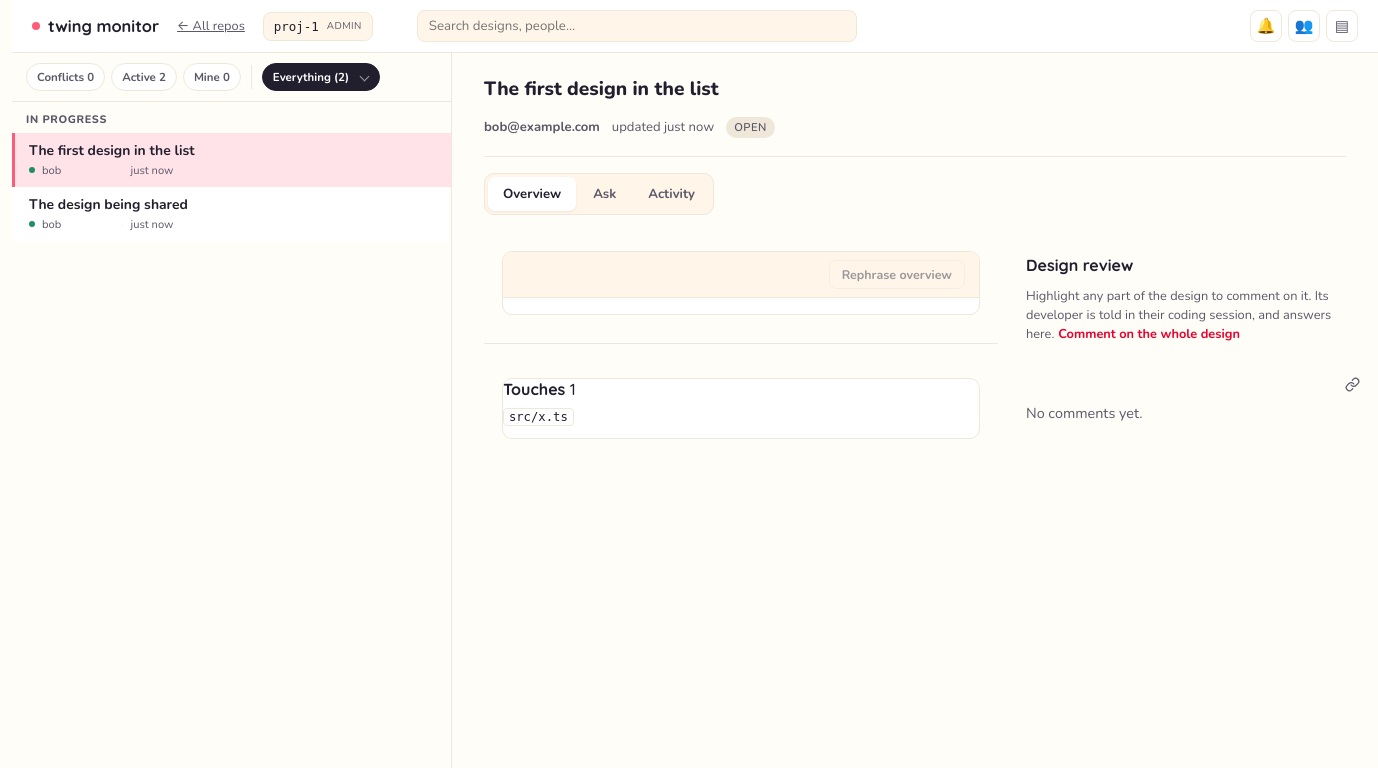
Test: RepoDetailLayout › the URL names the open design, so a copied link opens it › keeps the open design in the URL through the header link and a trip to another tab
Click the button with class "work-row" that starts with "The design being shared": {"x": 108, "y": 204} 12,187 -> 451,241
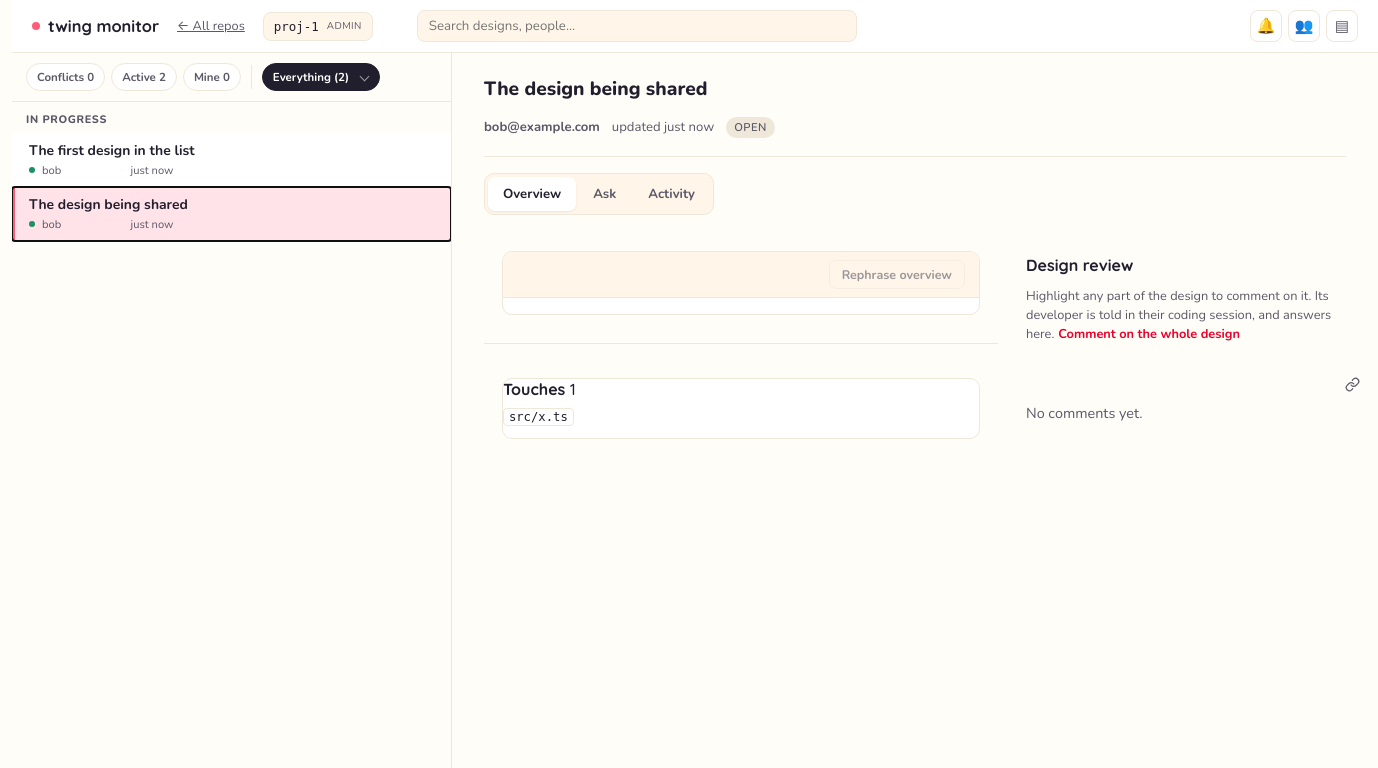
Click the button with aria-label "twing monitor, go to designs": {"x": 96, "y": 26} 32,16 -> 159,36
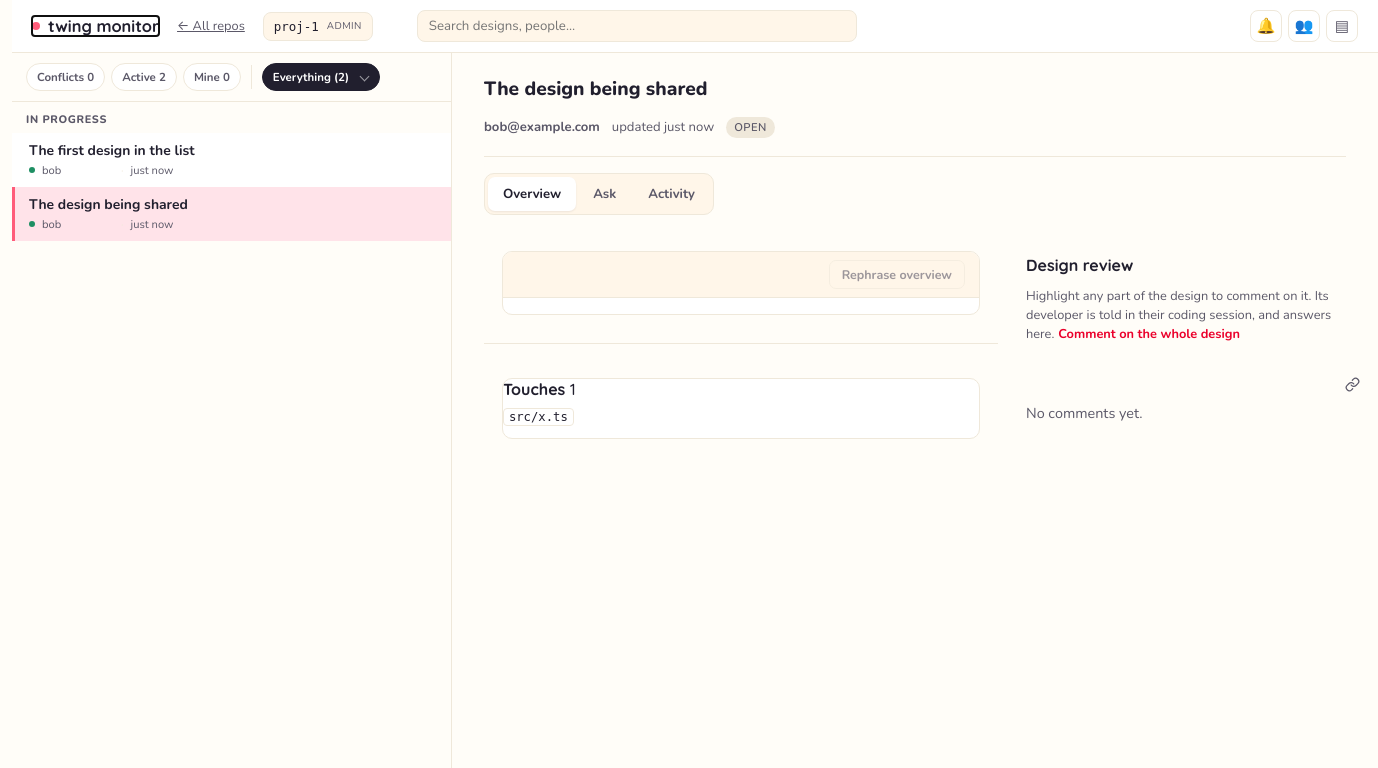
Check: the text with class "work-detail-title" reads "The design being shared", box 484,76 -> 707,102
Click the button named "Team": {"x": 1304, "y": 26} 1288,10 -> 1320,42
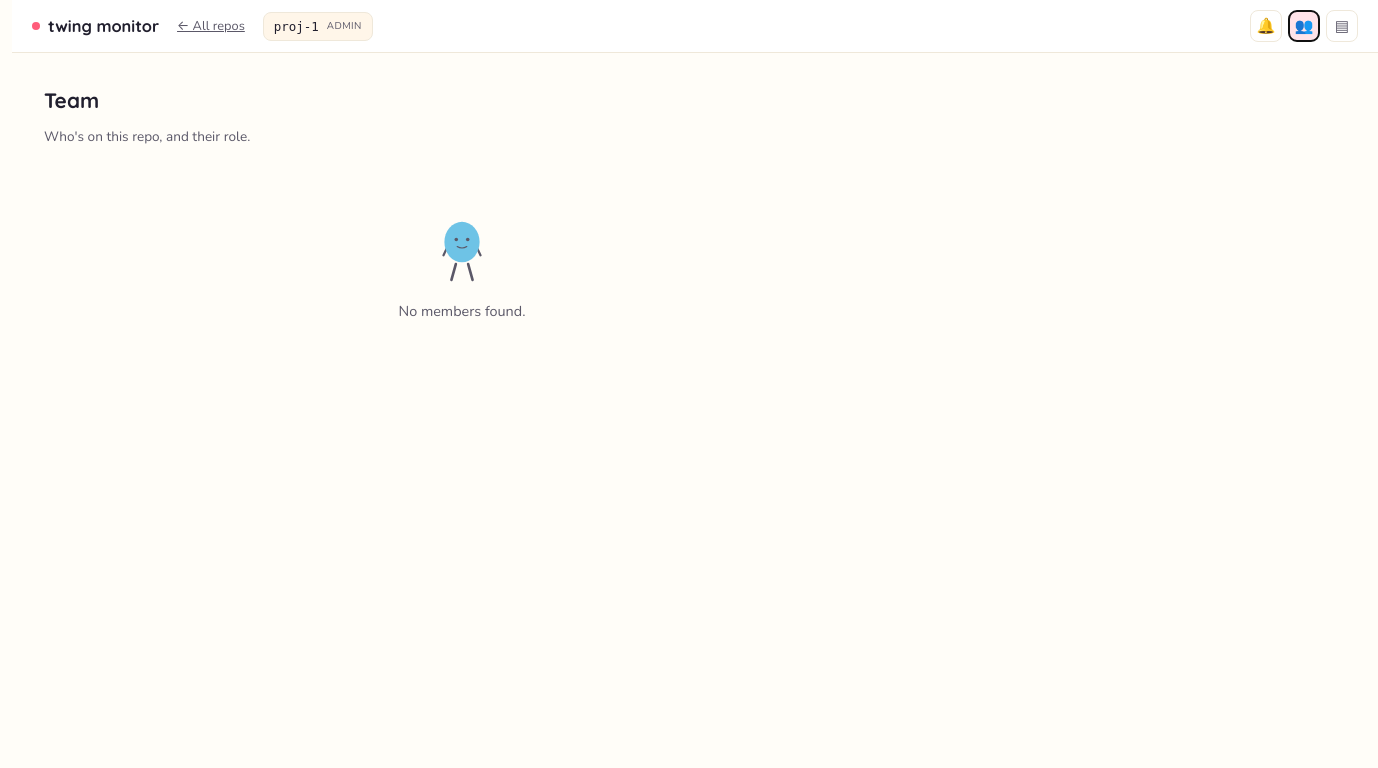
Check: the heading "Team" is shown, box 44,87 -> 99,113
Click the button with aria-label "twing monitor, go to designs": {"x": 96, "y": 26} 32,16 -> 159,36
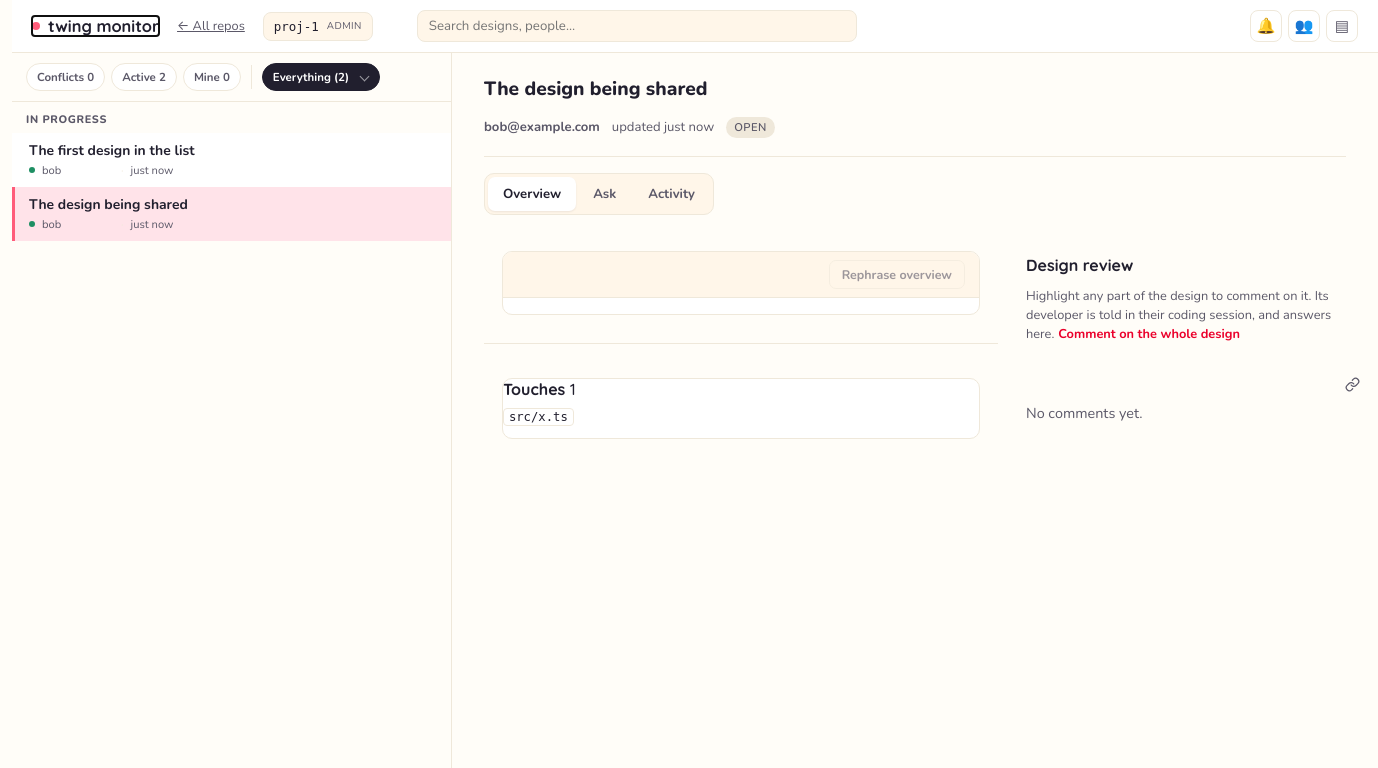
Check: the text with class "work-detail-title" reads "The design being shared", box 484,76 -> 707,102
